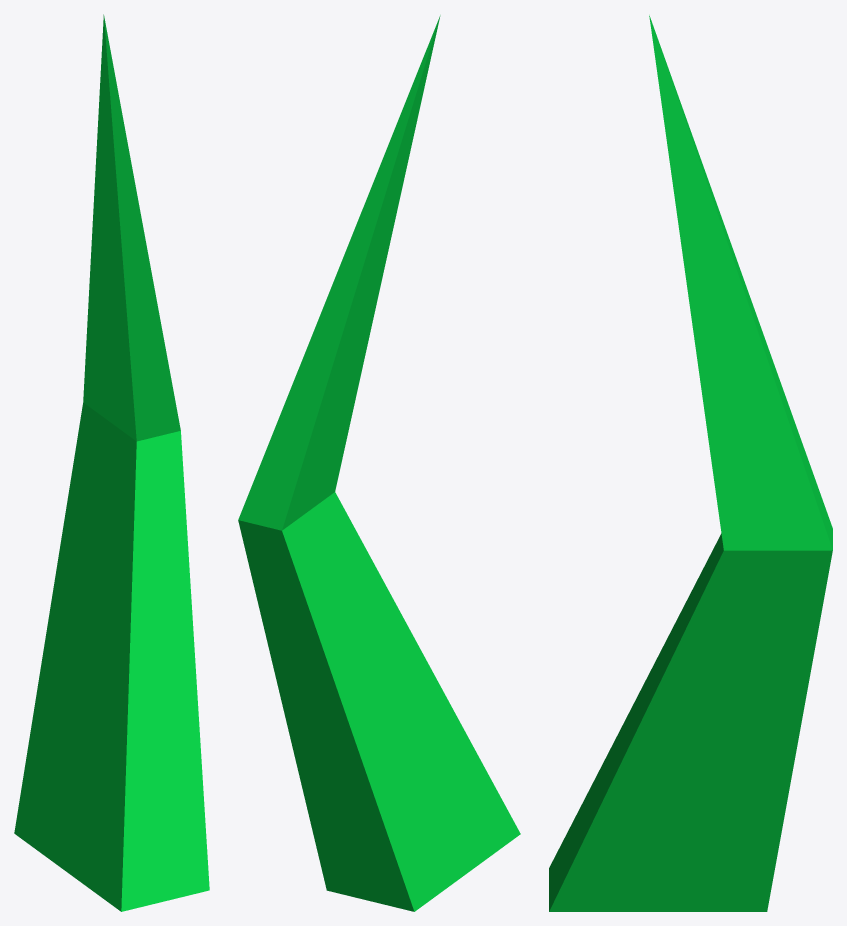
The model's file is grass-3d.fbx.
3 renders of one model, left to right at view 1: azimuth 30°, elevation 25°; view 2: azimuth 150°, elevation 25°; view 3: azimuth 270°, elevation 25°, orthographic. The views are drawn at different scales.
Parts seen in each view (by area): view 1: Cube; view 2: Cube; view 3: Cube.
Part boxes in pixels (bbox=[...]): Cube: bbox=[14, 14, 209, 911]; Cube: bbox=[238, 15, 520, 911]; Cube: bbox=[549, 15, 832, 911].
Size of the model in its own units: 73.8 by 414 by 123.
